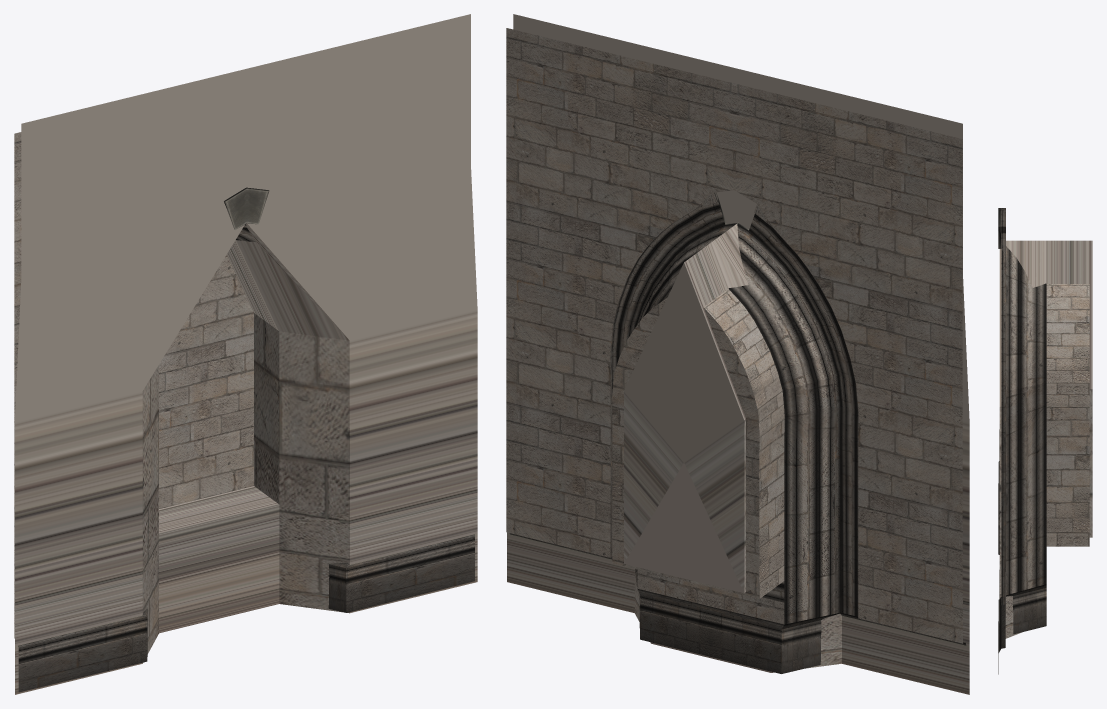
File: ArchwallStoneGrotto1.fbx
The picture shows the model from 3 angles, left to right: view 1: azimuth 30°, elevation 25°; view 2: azimuth 150°, elevation 25°; view 3: azimuth 270°, elevation 25°; orthographic projection. The views are drawn at different scales.
Visible parts, largest first — view 1: WindowArch_Stone.CollMesh, WindowArch_Stone.001; view 2: WindowArch_Stone.001, WindowArch_Stone.CollMesh; view 3: WindowArch_Stone.001, WindowArch_Stone.CollMesh.
Boxes of the visible parts, x1,y1,x2,y2 form: WindowArch_Stone.CollMesh: [15, 14, 477, 694]; WindowArch_Stone.001: [14, 132, 474, 692]; WindowArch_Stone.001: [506, 28, 966, 673]; WindowArch_Stone.CollMesh: [507, 14, 969, 694]; WindowArch_Stone.001: [998, 208, 1089, 674]; WindowArch_Stone.CollMesh: [999, 240, 1092, 638].
Size of the model in its own units: 490 by 576 by 101.
